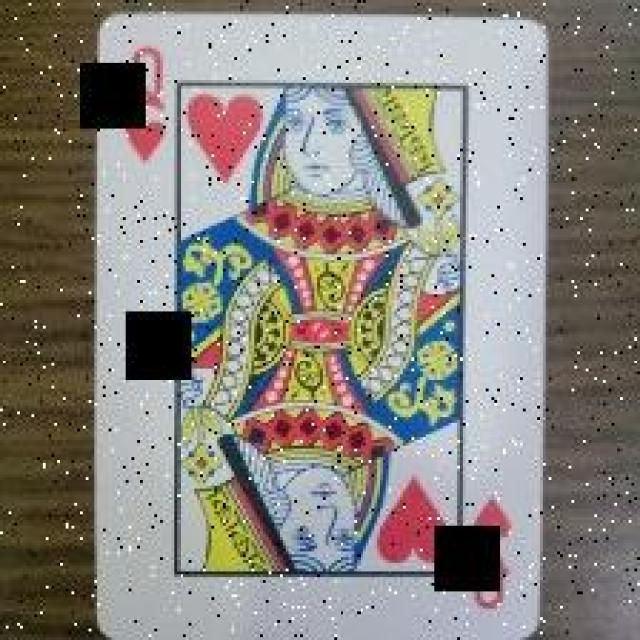Queen of hearts: (81, 15, 544, 640)
